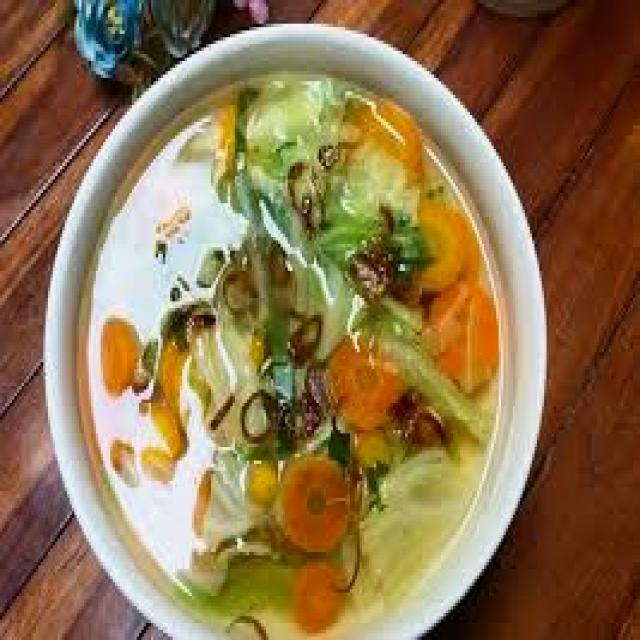sop: (74, 74, 508, 640)
